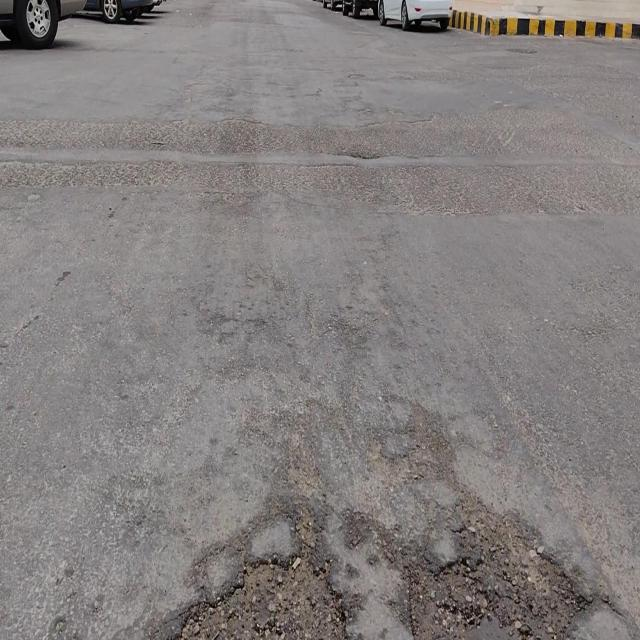Pothole: (408, 479, 597, 640), (172, 501, 351, 640)
